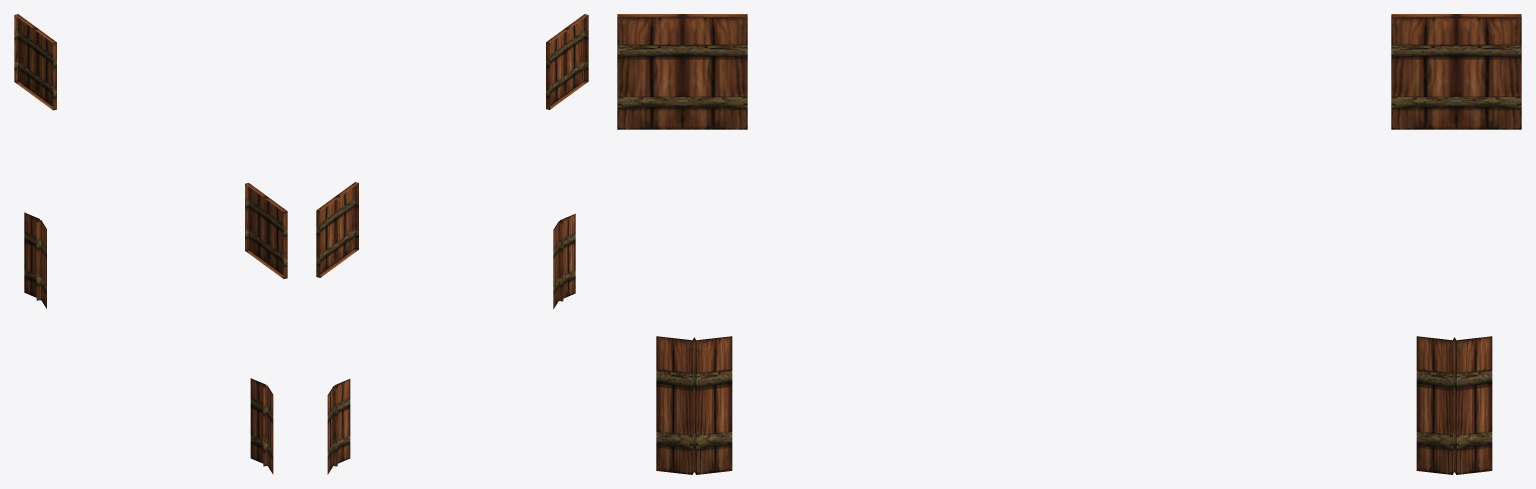
File: LAKETOWN_EXTERIOR_PS_LT_WINDOWS55.fbx
3 views of the same model, side by side, from view 1: azimuth 30°, elevation 25°; view 2: azimuth 150°, elevation 25°; view 3: azimuth 270°, elevation 25° (orthographic). The views are drawn at different scales.
Parts seen in each view (by area): view 1: LAKETOWN_EXTERIOR_PS_LT_WINDOWS55; view 2: LAKETOWN_EXTERIOR_PS_LT_WINDOWS55; view 3: LAKETOWN_EXTERIOR_PS_LT_WINDOWS55.
Part boxes in pixels (x1,y1,x2,y2): LAKETOWN_EXTERIOR_PS_LT_WINDOWS55: (14,14,287,474); LAKETOWN_EXTERIOR_PS_LT_WINDOWS55: (316,14,588,474); LAKETOWN_EXTERIOR_PS_LT_WINDOWS55: (617,14,1521,474).
Size of the model in its own units: 1206 by 50223 by 90276.
1 material, 1 textured.
